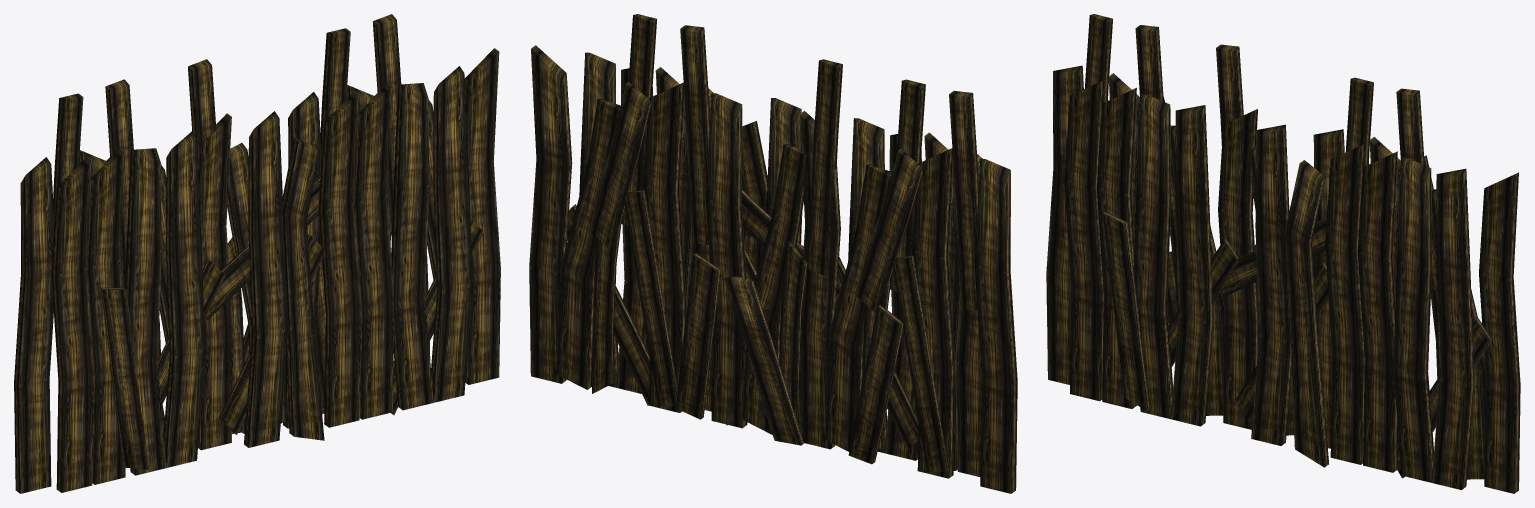
Rendered from CB_EXPLODING_WALL.fbx.
The picture shows the model from 3 angles, left to right: view 1: azimuth 30°, elevation 25°; view 2: azimuth 150°, elevation 25°; view 3: azimuth 330°, elevation 25°; orthographic projection. The views are drawn at different scales.
Visible parts, largest first — view 1: CB_EXPLODING_WALL; view 2: CB_EXPLODING_WALL; view 3: CB_EXPLODING_WALL.
Boxes of the visible parts, left/top/right/bottom form: CB_EXPLODING_WALL: left=14, top=14, right=500, bottom=493; CB_EXPLODING_WALL: left=529, top=14, right=1017, bottom=493; CB_EXPLODING_WALL: left=1046, top=14, right=1520, bottom=493.
Bounding box in the file's own units: 107363 × 84243 × 9130.
Materials: 1 (1 with a texture image).
